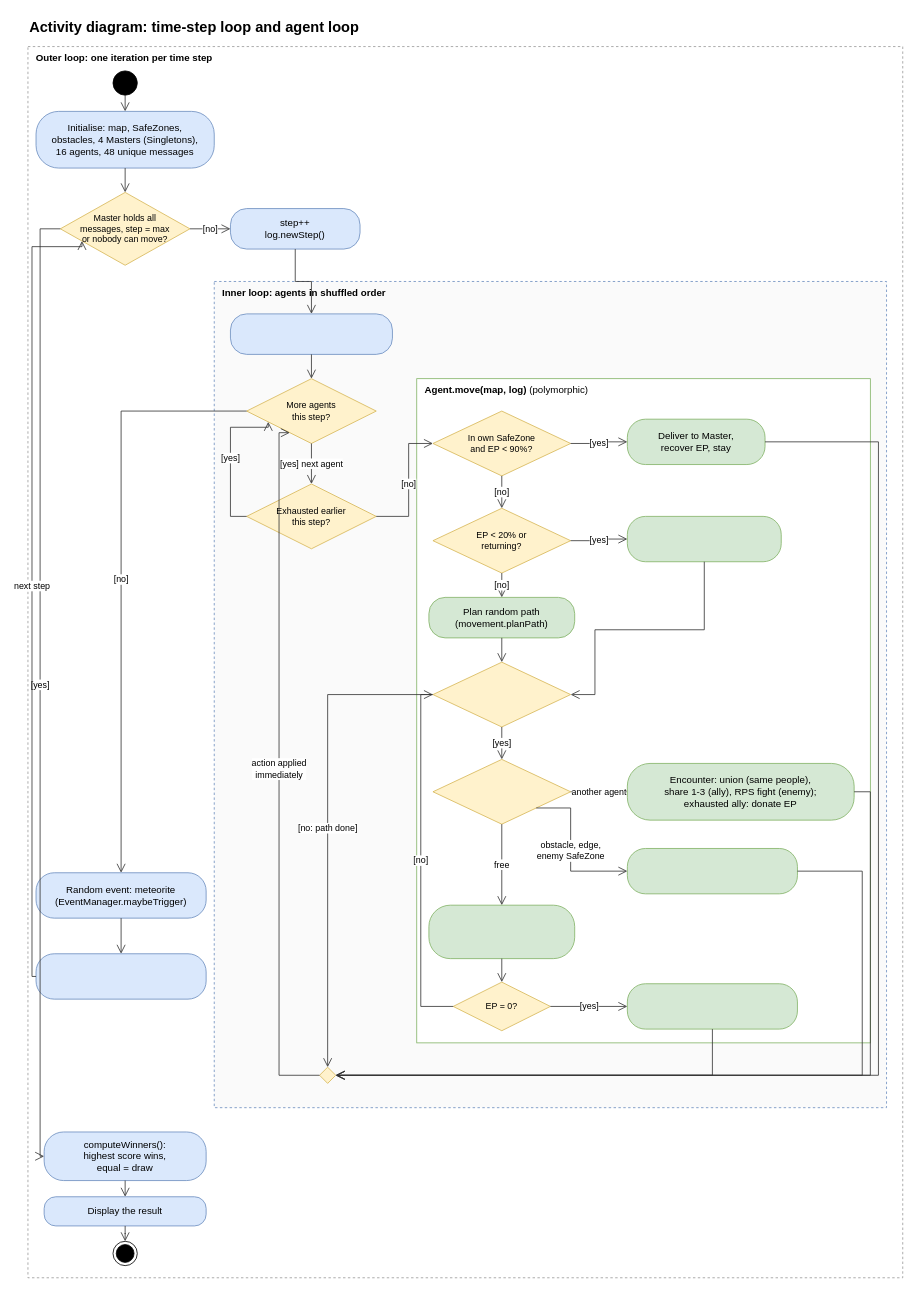
The diagram is 917 pixels wide and 1292 high, and some of its shapes have lost their labels. The shapes that lost their labels are listed below. From the top down, each one's centre as x and y in pixels, then its label:
pixel 311 333: Shuffle the active agents (RandomGen.shuffle)
pixel 704 539: Plan BFS path home (Map.shortestPathHome)
pixel 501 694: Next tile of the path?
pixel 501 791: What is on the tile?
pixel 712 871: Stop in front, lose EP of remaining tiles
pixel 501 931: Step onto the tile, spend EP outside SafeZone, deliver if in SafeZone
pixel 120 976: Render the step: map, scores, counters, events
pixel 712 1006: Become exhausted: obstacle, messages lost
